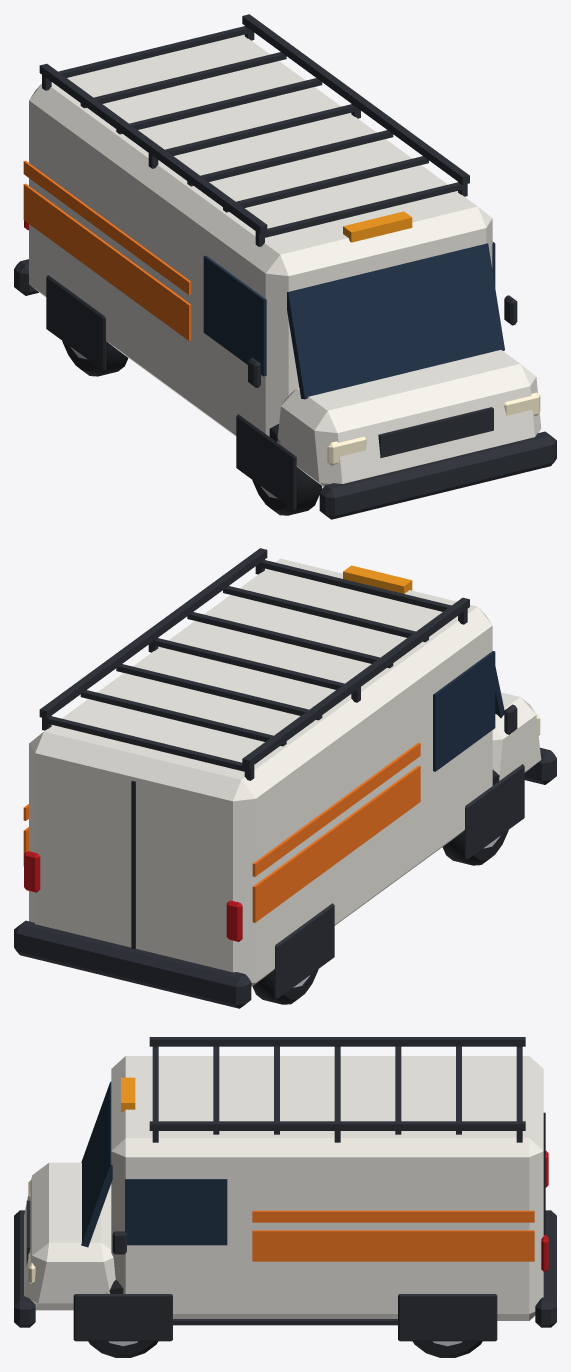
Rendered from van_small.glb.
3 views of the same model, one above another, from view 1: azimuth 30°, elevation 25°; view 2: azimuth 150°, elevation 25°; view 3: azimuth 270°, elevation 25° (orthographic). The views are drawn at different scales.
Parts seen in each view (by area): view 1: body, wheel_FR, wheel_RR; view 2: body, wheel_FR, wheel_RR; view 3: body, wheel_FL, wheel_RL.
Part boxes in pixels (box(x1,y1,x2,y2)): body: box(14, 14, 556, 519); wheel_FR: box(252, 424, 322, 515); wheel_RR: box(62, 341, 128, 376); body: box(14, 548, 556, 1008); wheel_FR: box(442, 769, 508, 865); wheel_RR: box(252, 969, 318, 1004); body: box(14, 1037, 556, 1341); wheel_FL: box(88, 1280, 158, 1357); wheel_RL: box(412, 1341, 482, 1357).
Bounding box in the file's own units: 2.16 × 2.14 × 4.52.
